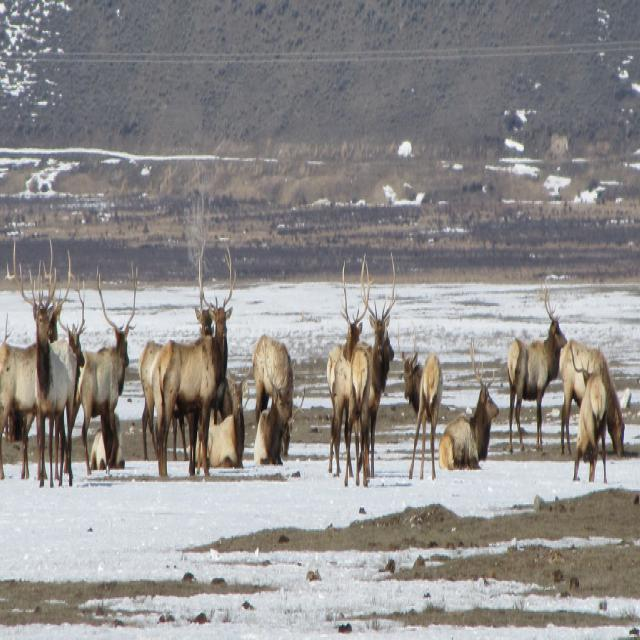Deer: (0, 238, 135, 491), (144, 241, 250, 477), (507, 283, 569, 452), (328, 258, 368, 476), (562, 338, 632, 456), (437, 346, 499, 468), (360, 250, 392, 475), (401, 329, 444, 485), (254, 335, 296, 464), (573, 349, 607, 485), (344, 338, 374, 487), (256, 338, 286, 471)
